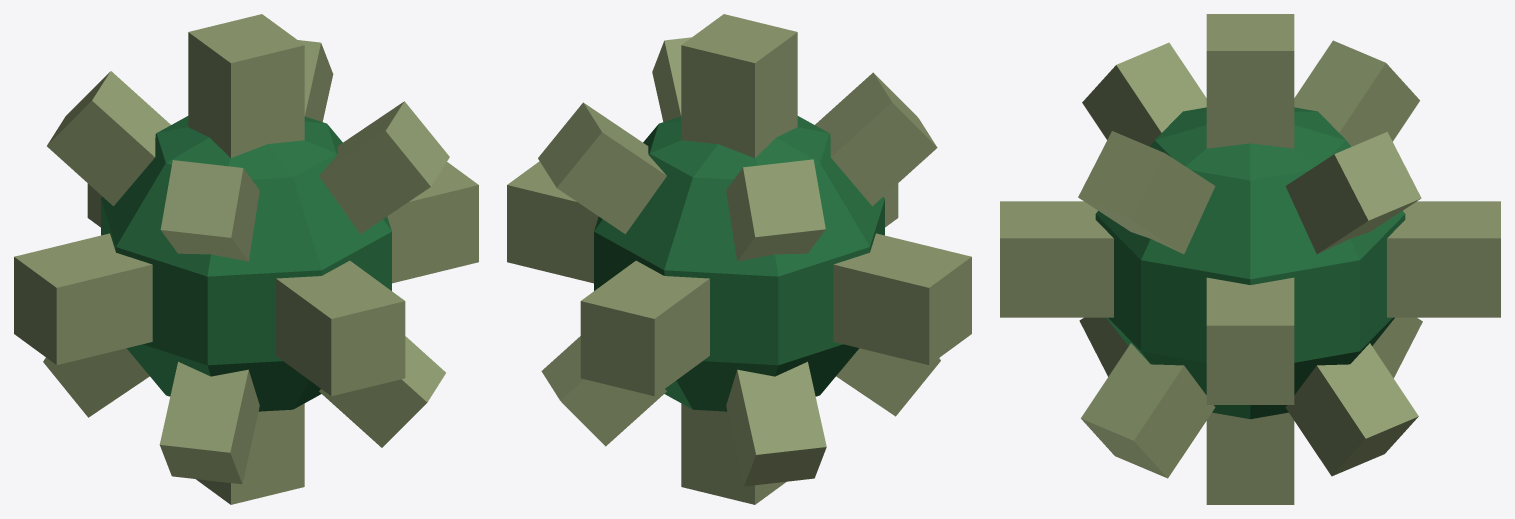
File: CleanACat_Prop_Burr.fbx
The picture shows the model from 3 angles, left to right: view 1: azimuth 30°, elevation 25°; view 2: azimuth 150°, elevation 25°; view 3: azimuth 270°, elevation 25°; orthographic projection. The views are drawn at different scales.
Parts seen in each view (by area): view 1: CleanACat_Prop_Burr; view 2: CleanACat_Prop_Burr; view 3: CleanACat_Prop_Burr.
Boxes of the visible parts, x1=… form: CleanACat_Prop_Burr: x1=14, y1=14, x2=478, y2=504; CleanACat_Prop_Burr: x1=507, y1=14, x2=971, y2=504; CleanACat_Prop_Burr: x1=1000, y1=14, x2=1500, y2=504.
Size of the model in its own units: 0.4 by 0.4 by 0.4.
Materials: 1 (1 with a texture image).
